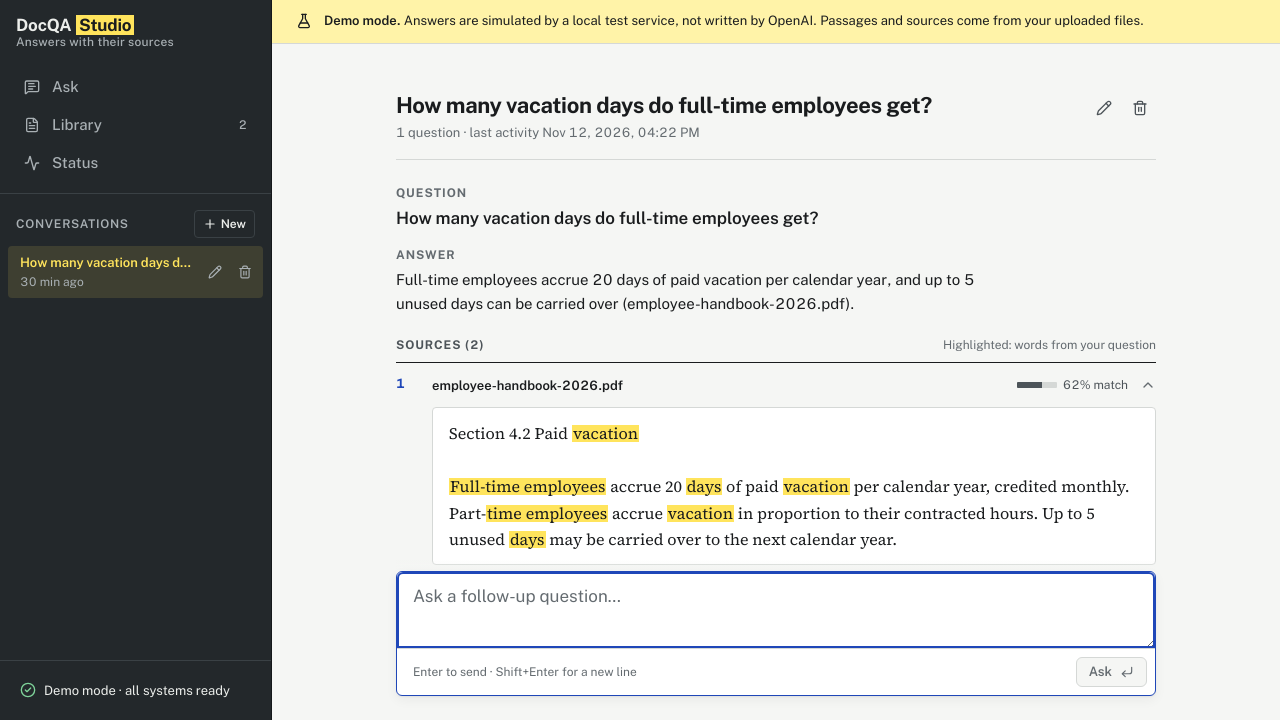
it: Conversation thread and citations › renames and deletes a conversation with confirmation
The width and height of the screenshot is (1280, 720).
Later steps or results of the test are not shown.
Click the button named "Rename conversation" at x=1104, y=108, box [1088, 92, 1120, 124]
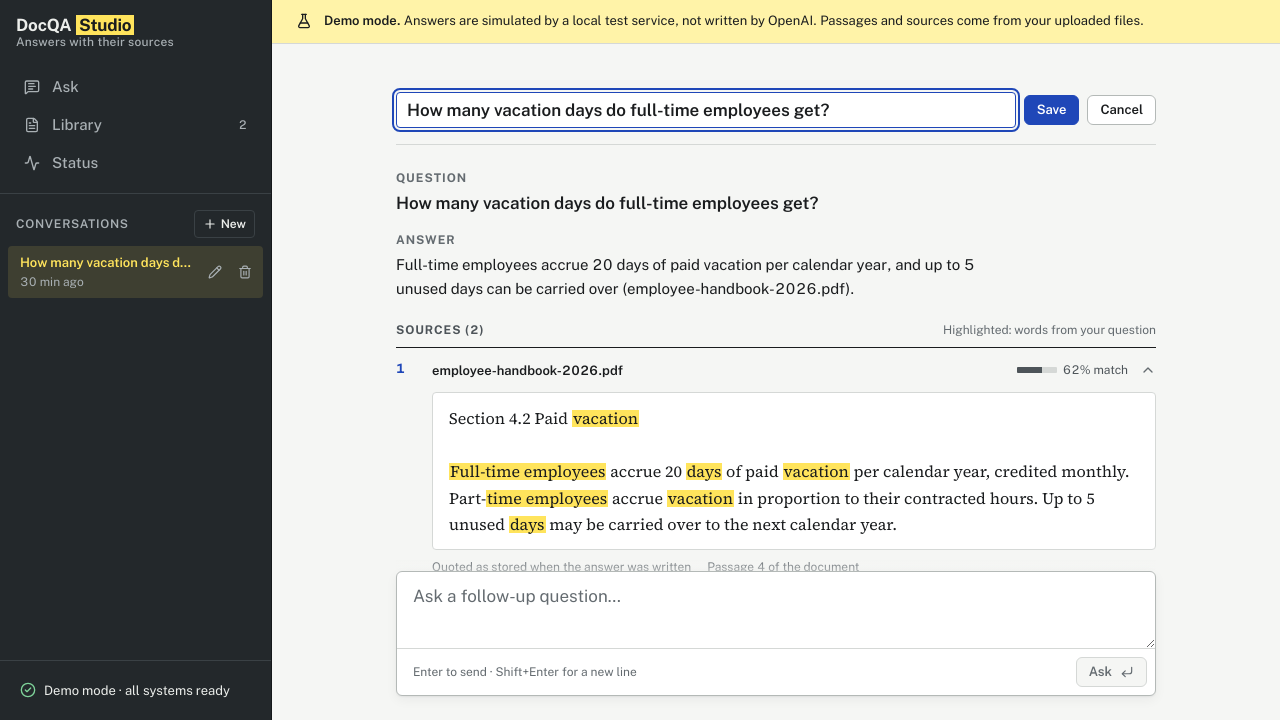
Replace the text in the field named "Conversation title" with "Vacation rules" at x=706, y=110, box [396, 92, 1016, 128]
Then press Enter
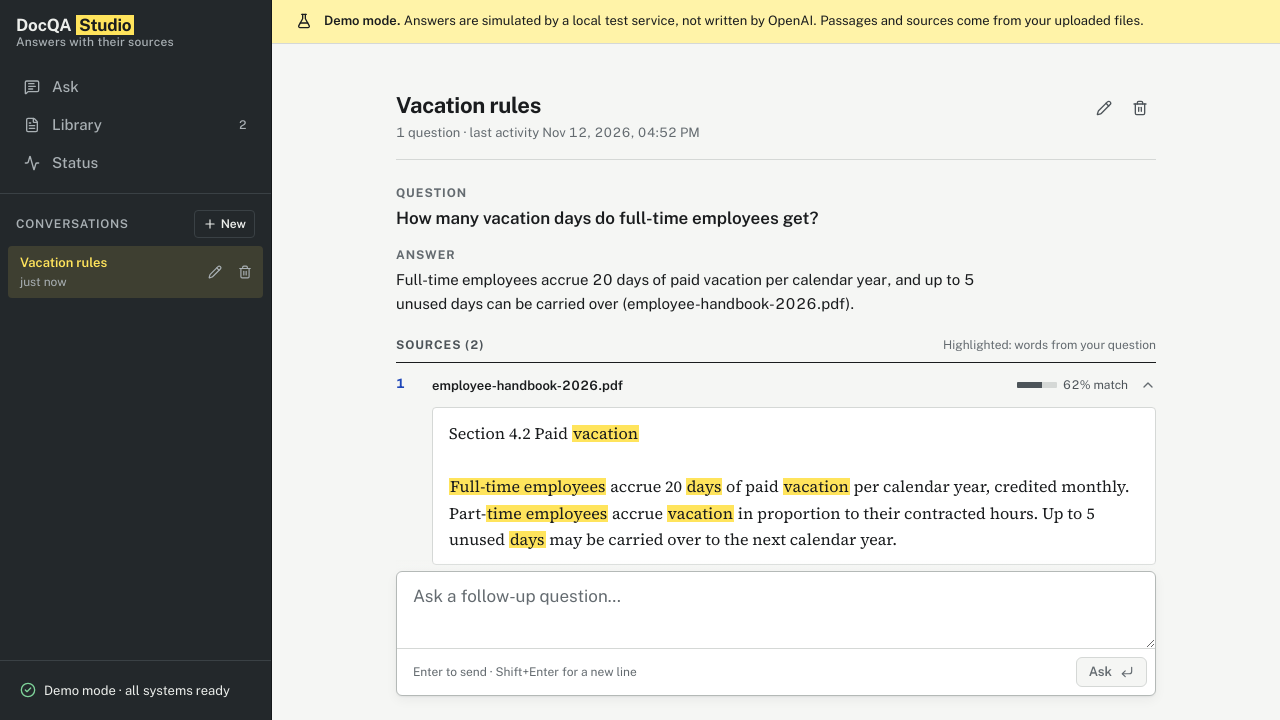
Now the heading "Vacation rules" is shown, box [396, 92, 541, 118]
Click the button named "Delete conversation" at x=1140, y=108, box [1124, 92, 1156, 124]
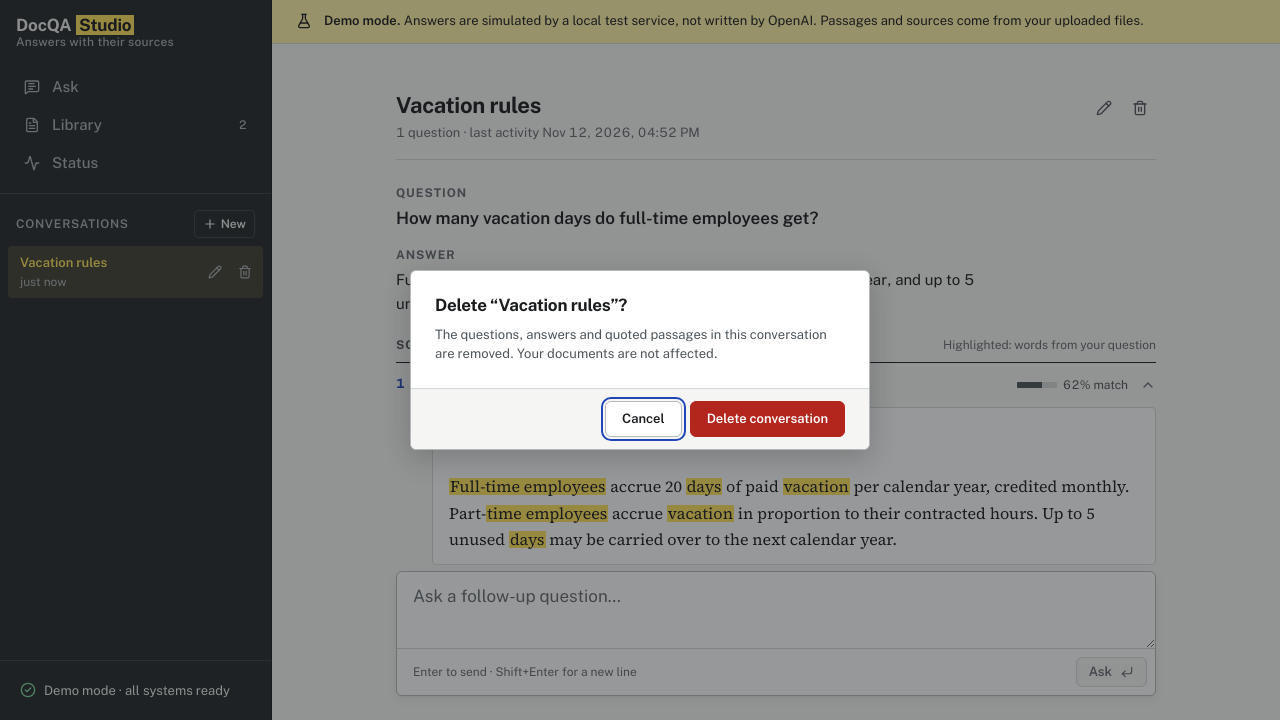
Now the heading "Delete “Vacation rules”?" is shown, box [435, 295, 627, 315]
